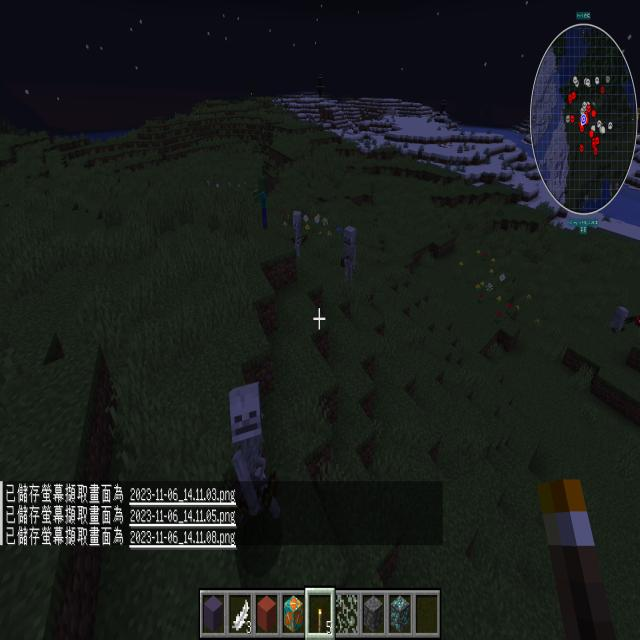Skeleton: (216, 376, 285, 534), (339, 221, 359, 289), (288, 206, 310, 265), (609, 300, 629, 343)
Spider: (625, 306, 640, 334)
Zombie: (251, 170, 271, 233)
